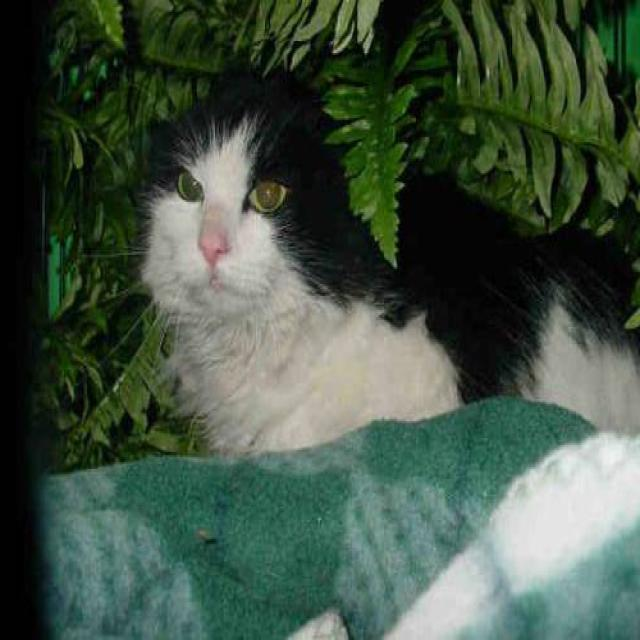Kucing: (103, 92, 486, 448)
